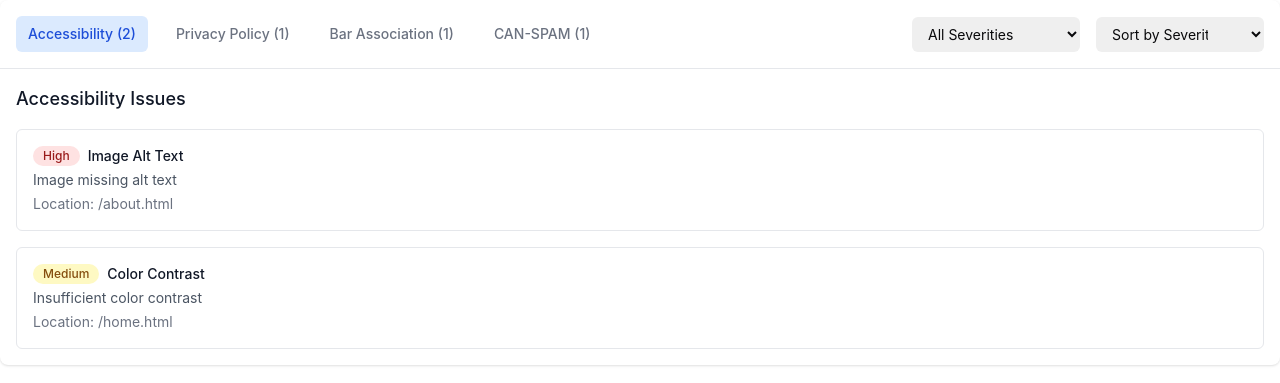
Test: ScanResults › shows appropriate message when no issues match filters
Select "Low" in the 1st dropdown at (996, 34), box [912, 16, 1080, 52]
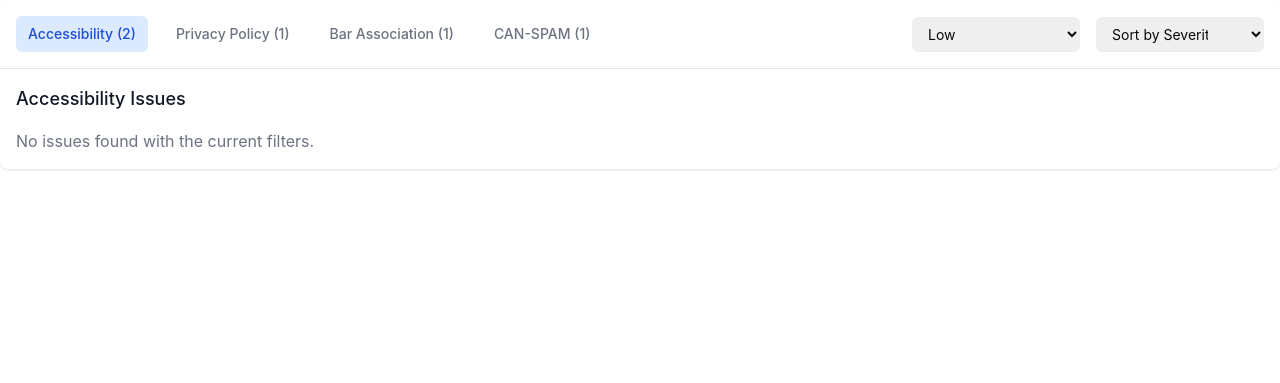
Expected: the text "No issues found with the current filters." is shown, [16, 131, 314, 151]
